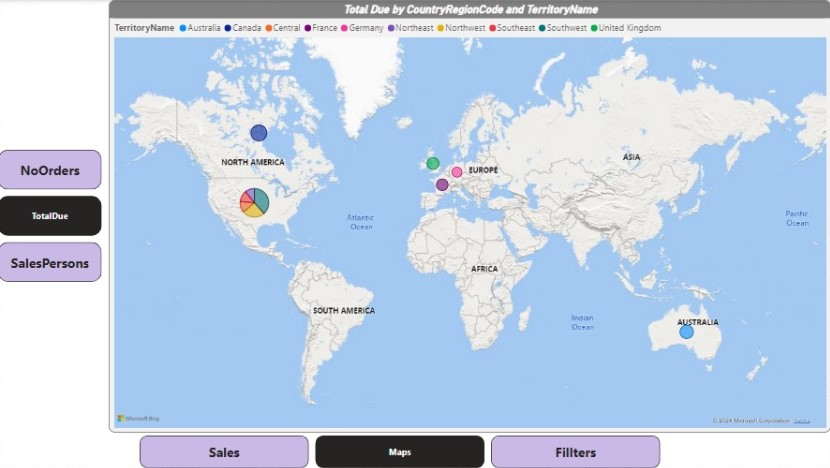

What the dashboard file says about the page in this screenshot:
{"tool":"powerbi","page":{"name":"Maps","canvas":[1280,720],"ordinal":2},"visuals":[{"type":"pageNavigator","box":[217.4,669.6,800.6,50.4],"z":0},{"type":"map","fields":{"Category":["Territory.CountryRegionCode"],"Series":["Territory.TerritoryName"],"Size":["OrderDetail.No Orders"]},"box":[169.9,0,1110.2,665.3],"z":2000},{"type":"bookmarkNavigator","box":[0,230.4,159.8,204.5],"z":4000}]}

Visuals, with their boxes in screenshot pixels (x1, y1, x2, y2), scaled from the page's 1280x720 canvas onto the 830x468 screenshot:
pageNavigator: [141,435,660,467]
map - Territory.CountryRegionCode x Territory.TerritoryName: [110,0,829,432]
bookmarkNavigator: [0,150,104,283]
